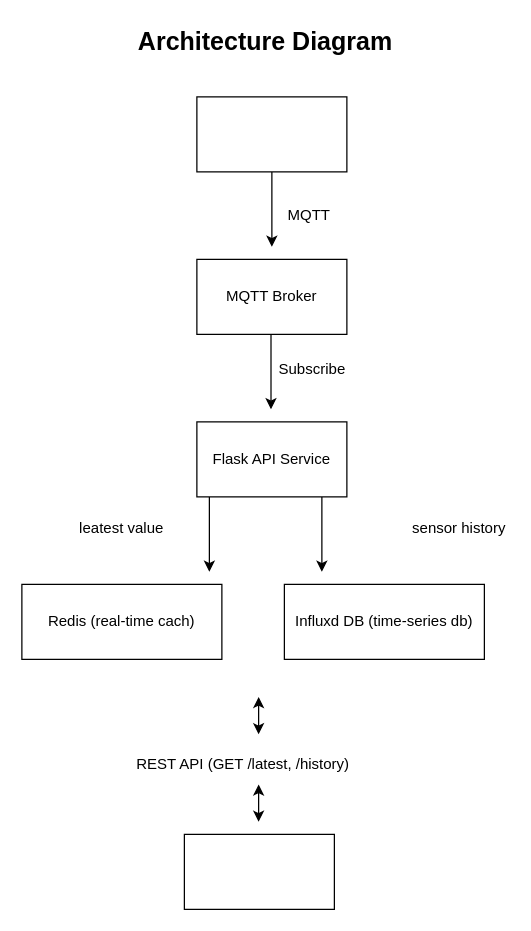
Some shapes in this 531 by 931 pixel diagram are drawn without their labels. The centre of each missing label's shape, as x and y in pixels:
"Temperature_sensor" belongs at pixel 271 134.
"webdashboard" belongs at pixel 258 871.
